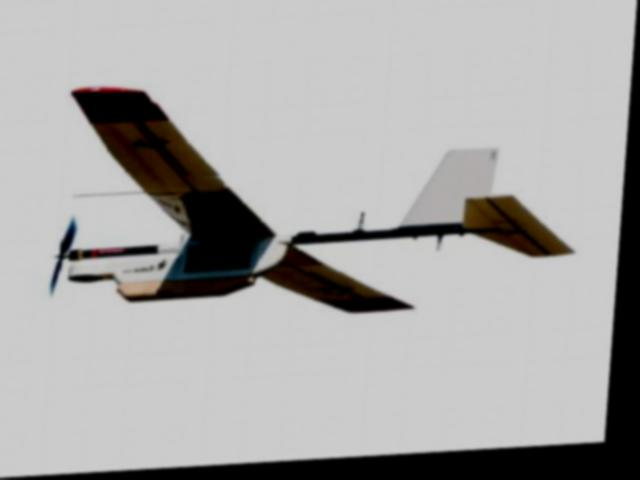uav: (48, 63, 593, 335)
